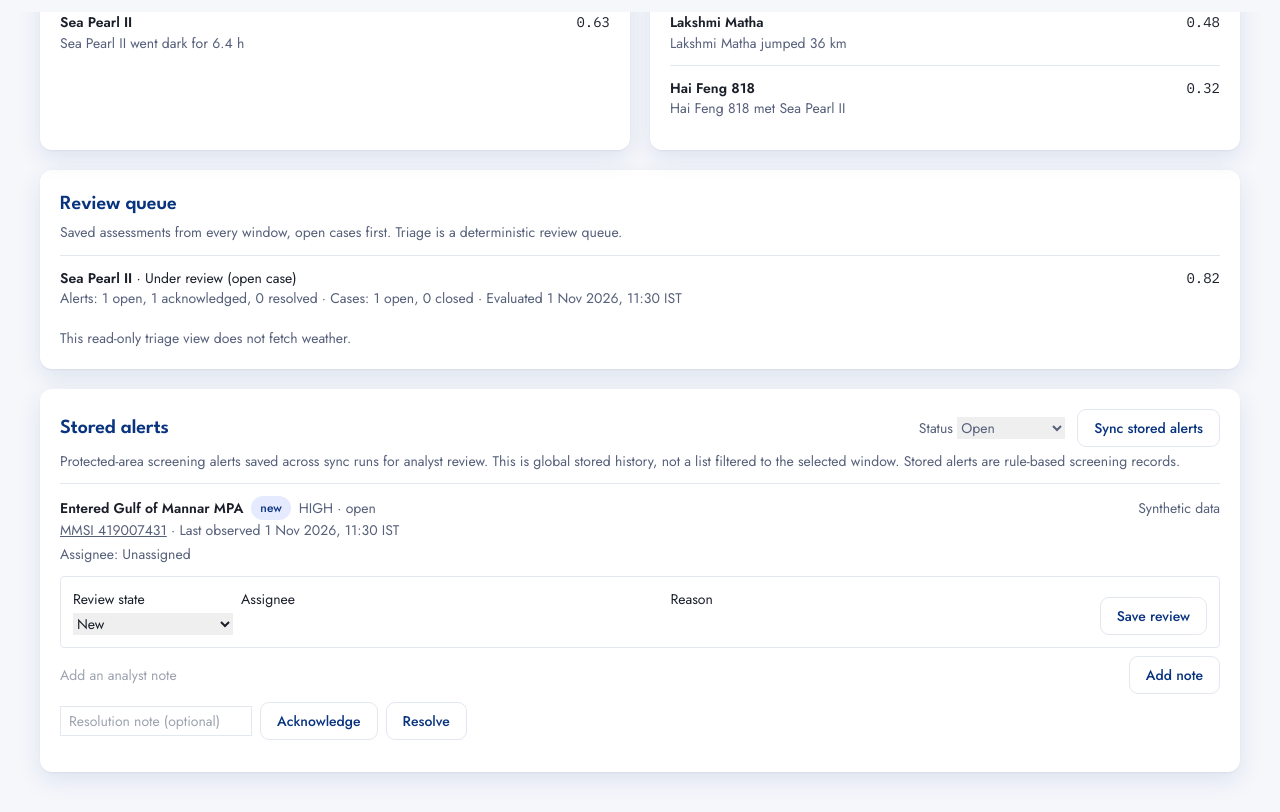
Test case: stored alert lifecycle and triage › shows the server 409 detail, says nothing changed and reloads the list
This screenshot has width=1280, height=812.
(page scrolled)
Click the button with aria-label "Acknowledge Entered Gulf of Mannar MPA (MMSI 419007431)": (319, 721) [260,702,378,740]
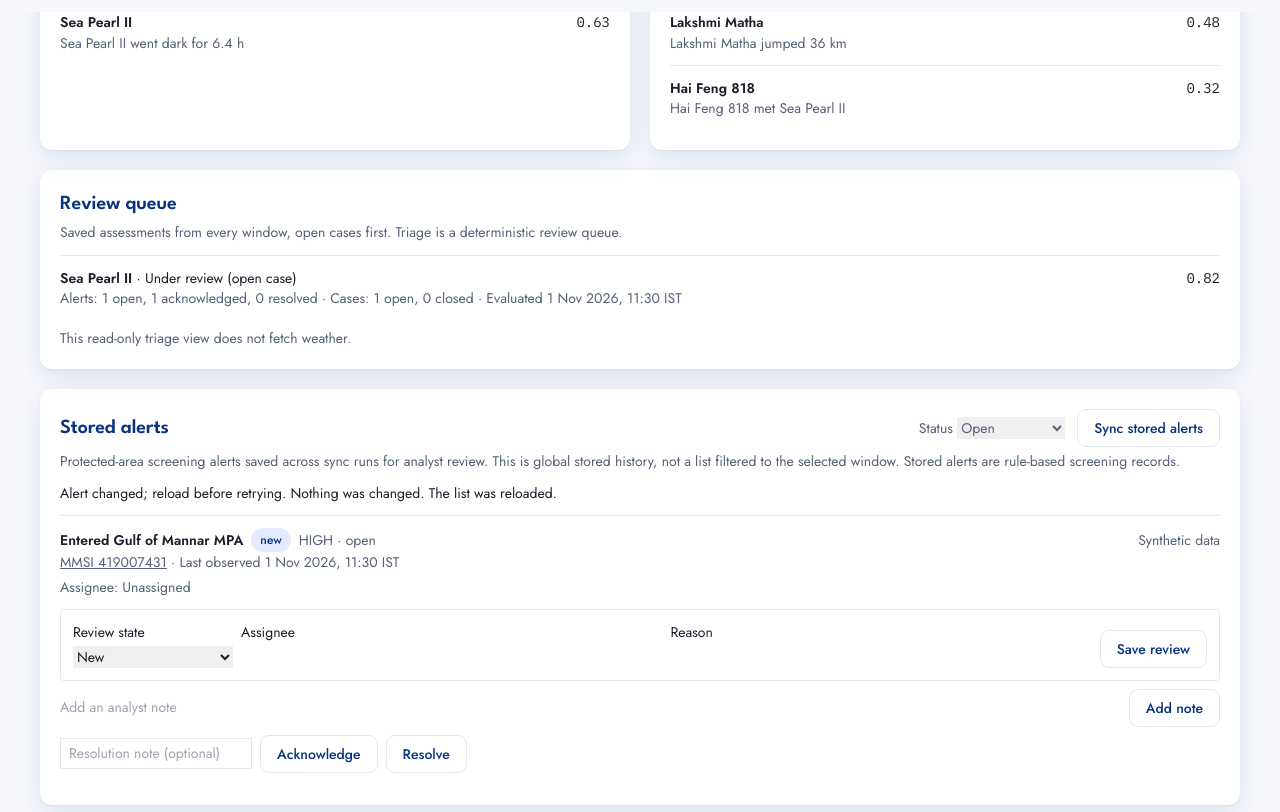
Now the message shows "Alert changed; reload before retrying. Nothing was changed. The list was reloaded.", box [60,483,557,503]
